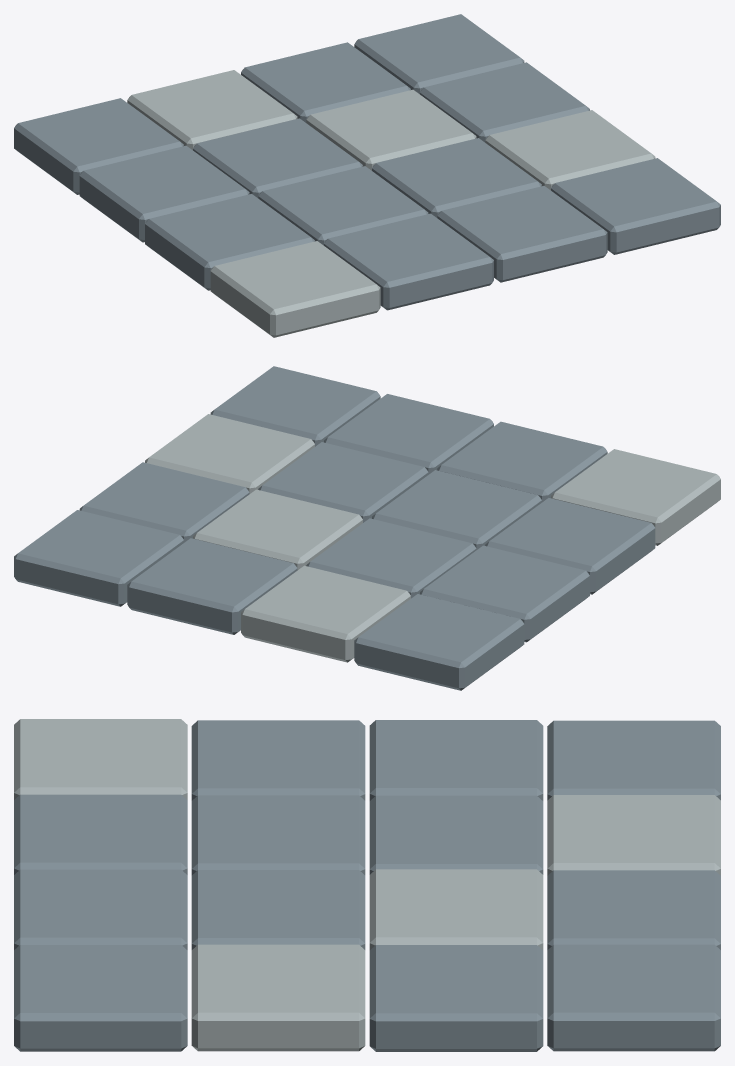
File: crypt_floor_4m.glb
The picture shows the model from 3 angles, top to bottom: view 1: azimuth 30°, elevation 25°; view 2: azimuth 150°, elevation 25°; view 3: azimuth 270°, elevation 25°; orthographic projection. The views are drawn at different scales.
Parts seen in each view (by area): view 1: crypt_floor_4m_Geometry; view 2: crypt_floor_4m_Geometry; view 3: crypt_floor_4m_Geometry.
Part boxes in pixels (x1,y1,x2,y2): crypt_floor_4m_Geometry: [14, 14, 720, 337]; crypt_floor_4m_Geometry: [14, 366, 720, 690]; crypt_floor_4m_Geometry: [14, 719, 720, 1051].
Bounding box in the file's own units: 3.98 × 0.2494 × 3.98.
